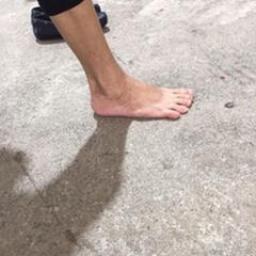Lateral View -Right Foot-: (74, 60, 200, 129)
